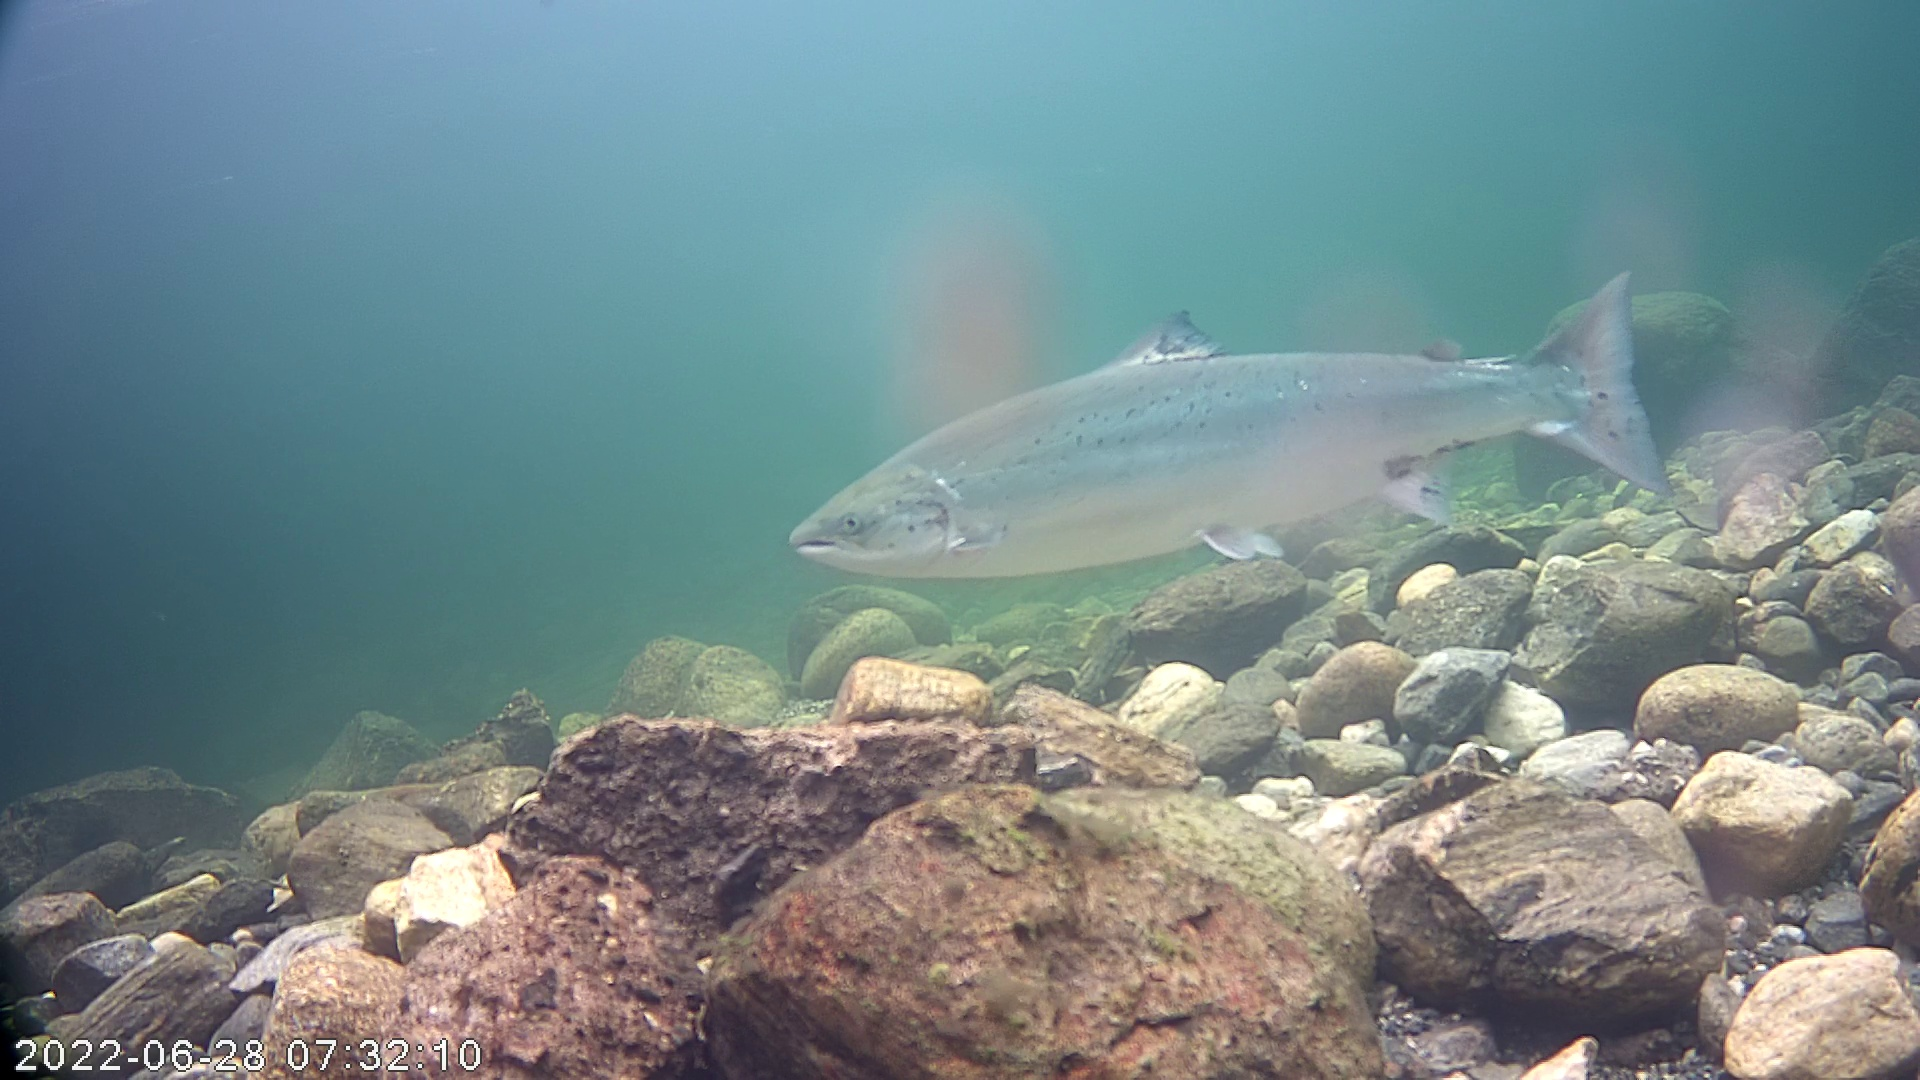salmon: (775, 228, 1689, 615)
